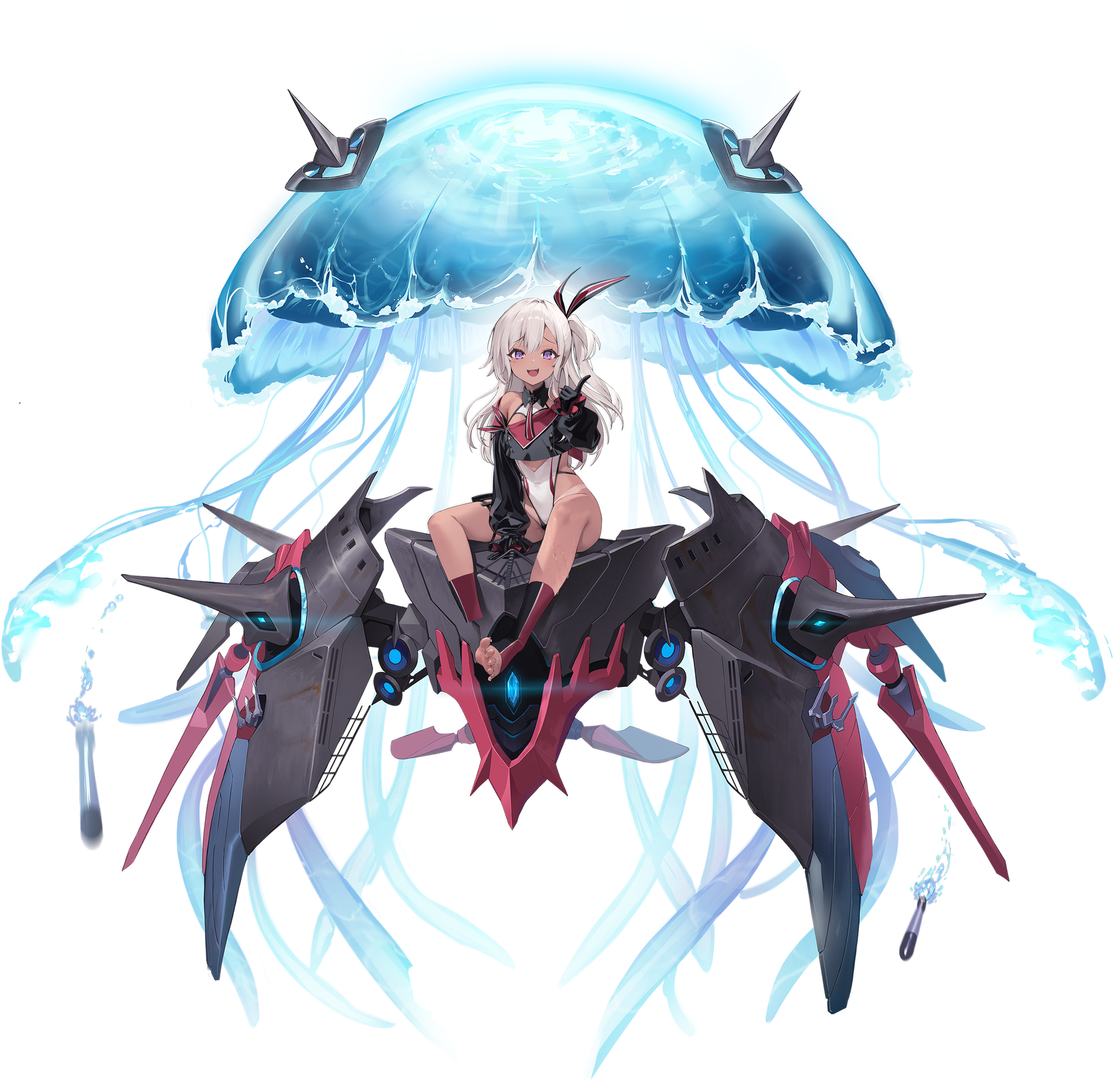person: (360, 241, 652, 821)
